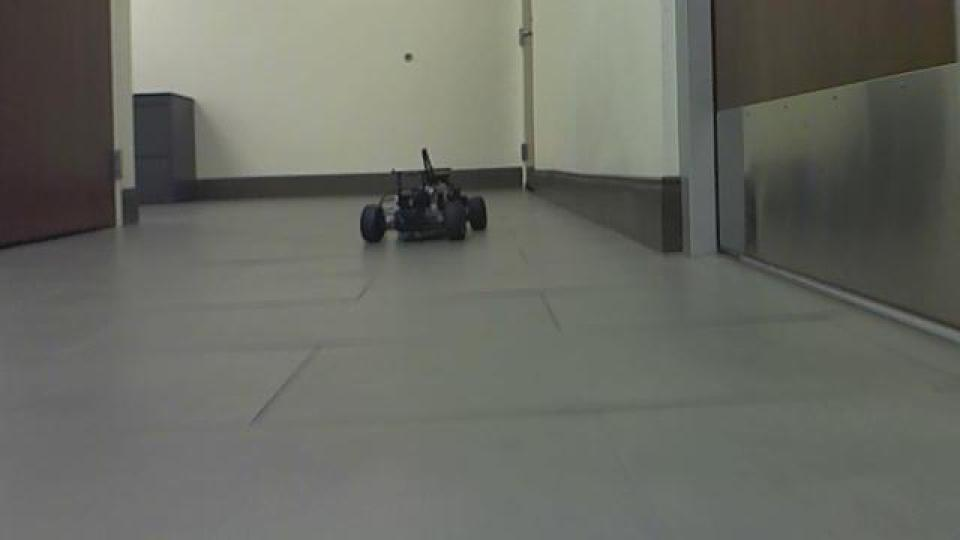car: (355, 146, 489, 248)
